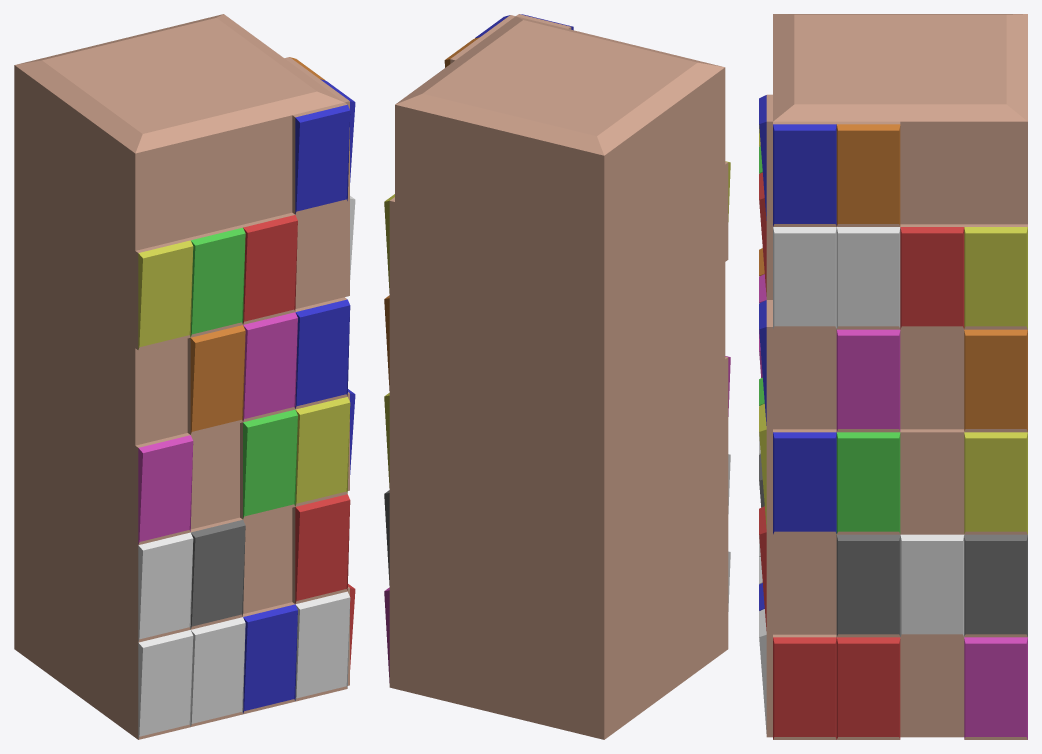
The model's file is NewspaperRack.fbx.
3 renders of one model, left to right at view 1: azimuth 30°, elevation 25°; view 2: azimuth 150°, elevation 25°; view 3: azimuth 270°, elevation 25°, orthographic. The views are drawn at different scales.
Visible parts, largest first — view 1: Cube.001; view 2: Cube.001; view 3: Cube.001.
Boxes of the visible parts, left/top/right/bottom form: Cube.001: left=14, top=14, right=355, bottom=739; Cube.001: left=384, top=14, right=730, bottom=739; Cube.001: left=759, top=14, right=1027, bottom=739.
Bounding box in the file's own units: 79.08 × 203 × 79.12.
